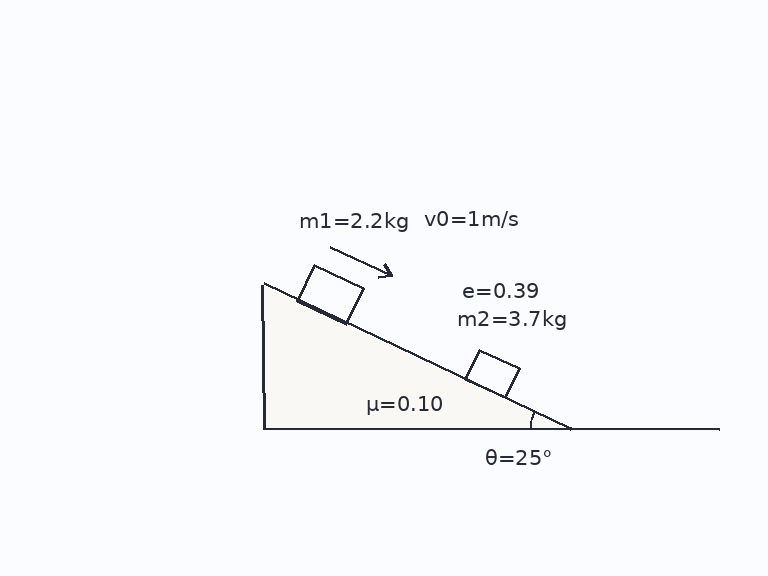block: (296, 263, 364, 325), (464, 348, 521, 399)
ramp: (262, 283, 573, 430)
